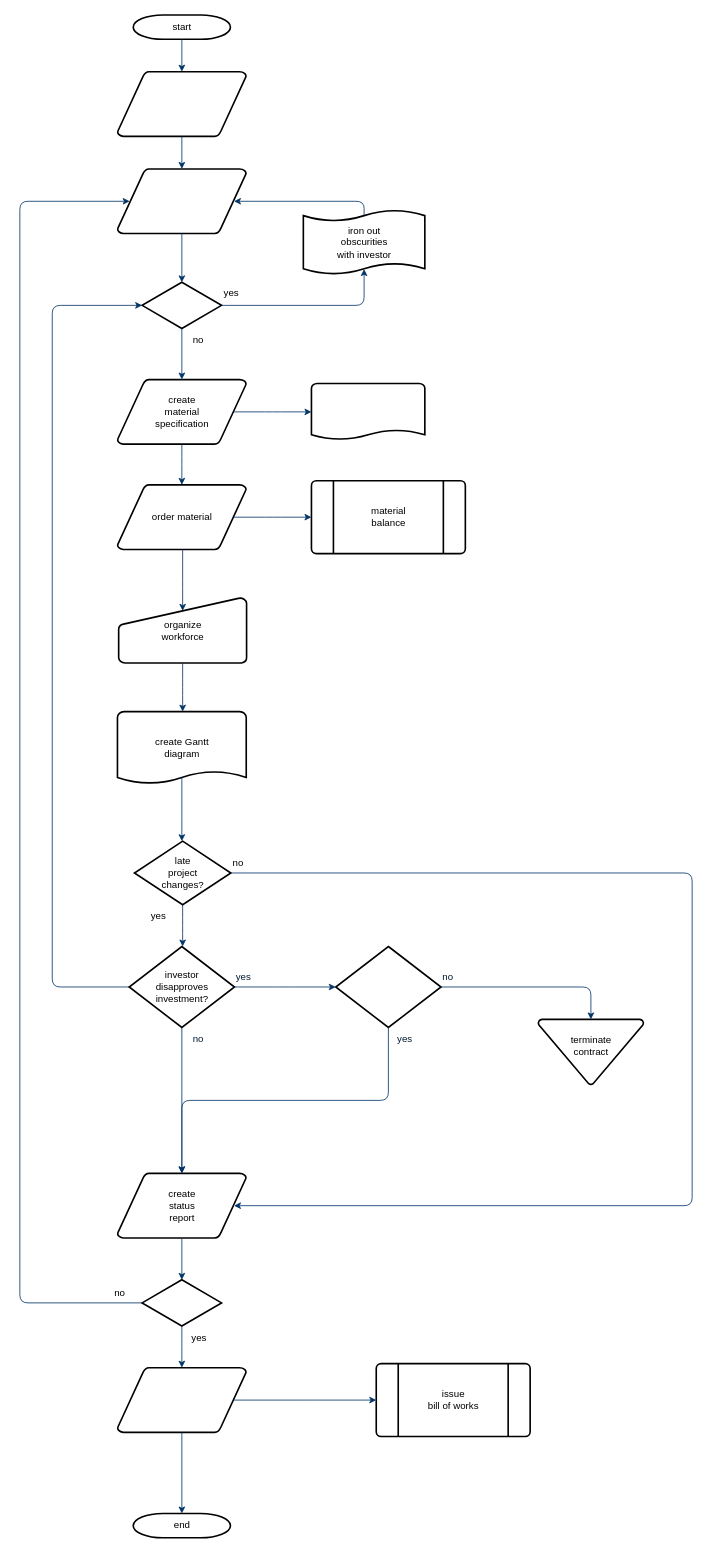
The diagram is 713 pixels wide and 1552 high, and some of its shapes have lost their labels. The centre of each missing label's shape, as x and y in pixels:
agreement?: (388,986)
BP神经网络: (181,103)
create final report: (181,1399)
final project: (367,411)
obscurities?: (181,305)
project complete?: (181,1302)
你好: (181,201)
